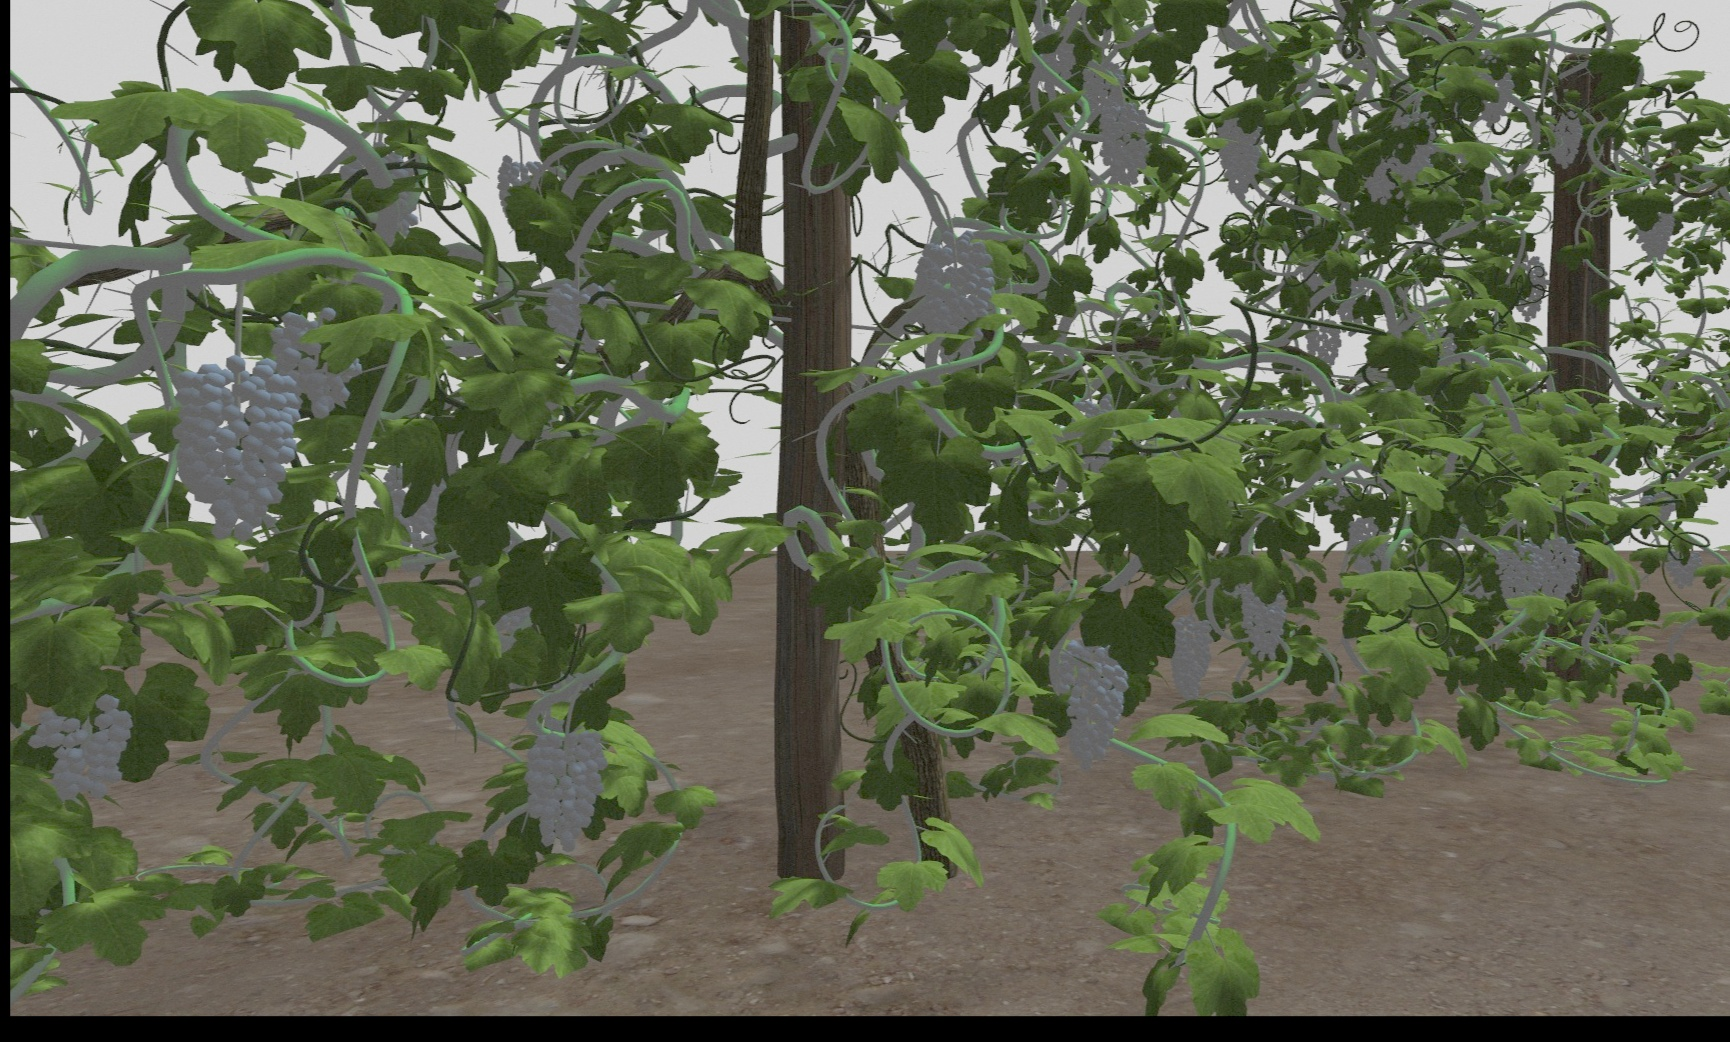grape: (174, 358, 302, 548), (21, 688, 133, 798), (524, 726, 608, 858), (271, 305, 363, 417), (1054, 642, 1129, 773), (912, 232, 997, 342), (1097, 95, 1150, 188), (542, 279, 605, 356), (1165, 612, 1212, 705), (1239, 582, 1290, 663), (1216, 114, 1263, 199), (1386, 112, 1435, 183), (1496, 541, 1543, 606), (1541, 536, 1580, 604), (1635, 203, 1677, 260), (1545, 108, 1583, 168), (1301, 316, 1341, 370), (1080, 62, 1124, 103), (1668, 545, 1702, 593)
